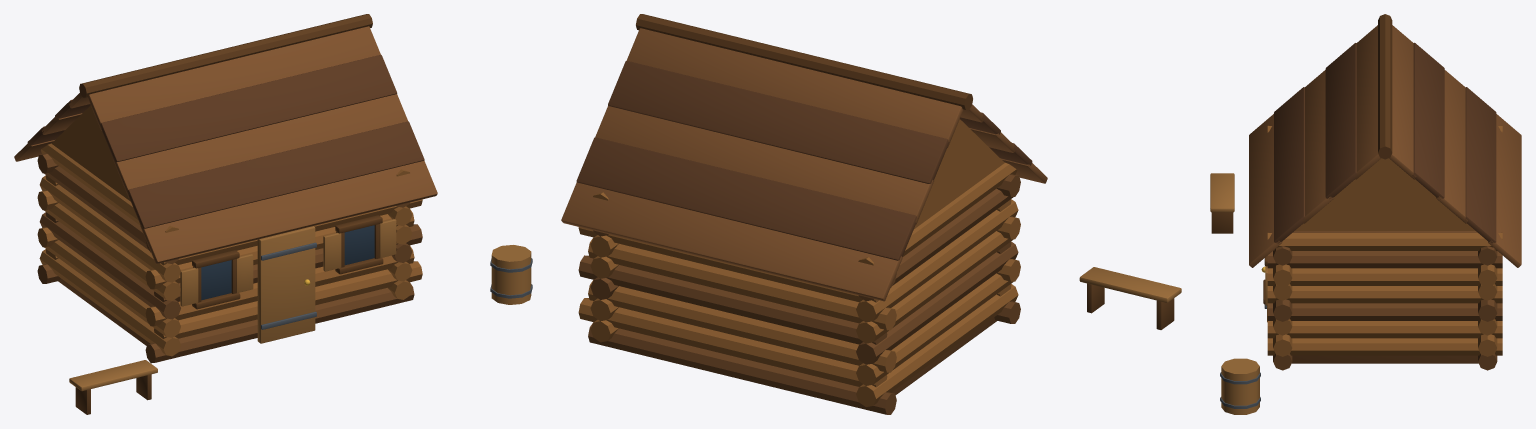
The model's file is budynek_glowny_poz02.glb.
The picture shows the model from 3 angles, left to right: view 1: azimuth 30°, elevation 25°; view 2: azimuth 150°, elevation 25°; view 3: azimuth 270°, elevation 25°; orthographic projection. The views are drawn at different scales.
Parts seen in each view (by area): view 1: budynek_glowny_poz02; view 2: budynek_glowny_poz02; view 3: budynek_glowny_poz02.
Part boxes in pixels (x1,y1,x2,y2): budynek_glowny_poz02: (14, 14, 532, 414); budynek_glowny_poz02: (561, 14, 1181, 414); budynek_glowny_poz02: (1210, 14, 1521, 414).
Bounding box in the file's own units: 8.42 × 4.22 × 5.16.
